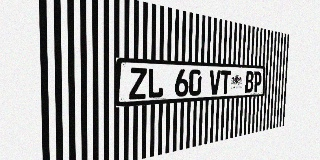0: (189, 69, 202, 96)
6: (175, 69, 189, 97)
B: (245, 71, 254, 93)
L: (147, 68, 163, 99)
P: (253, 71, 262, 92)
T: (220, 70, 231, 94)
V: (209, 70, 221, 95)
Z: (129, 67, 147, 100)
